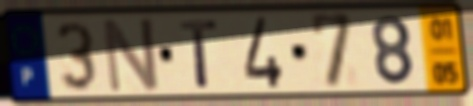3: (54, 20, 100, 93)
4: (243, 15, 285, 90)
7: (307, 11, 356, 92)
8: (369, 14, 417, 87)
N: (99, 15, 162, 96)
T: (177, 18, 220, 90)
